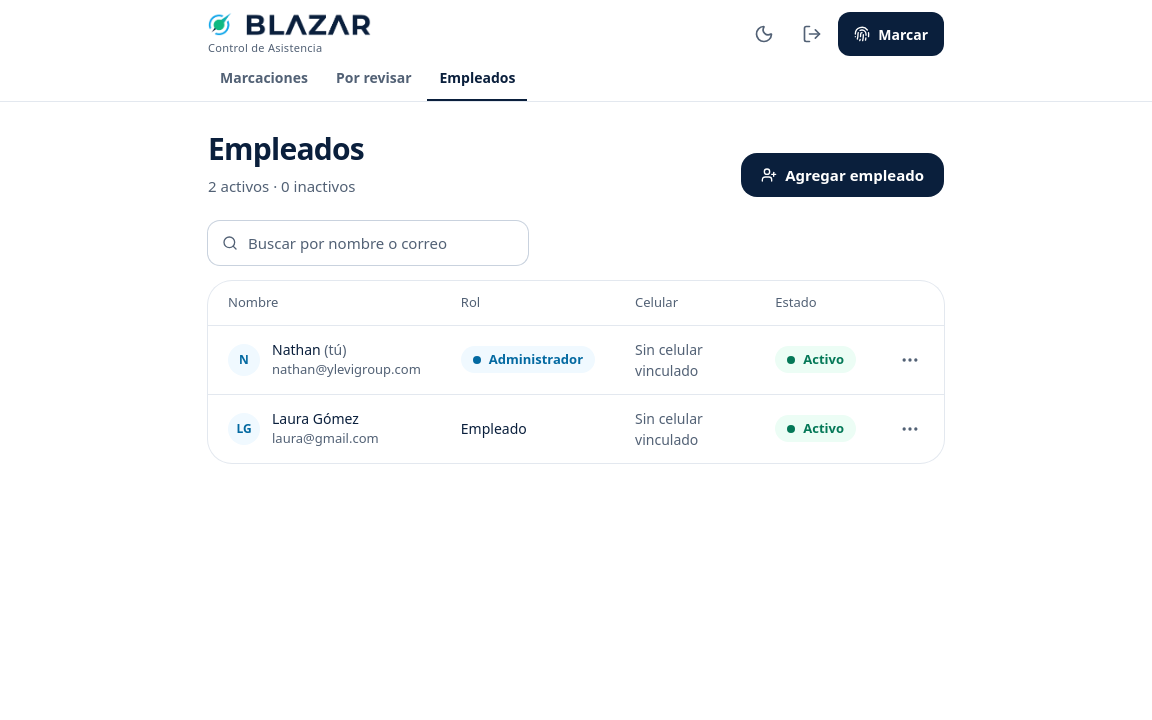
Empleados (administrador, datos reales) › desactivar pide confirmación y lo aplica en el servidor
Press Enter in the button named "Acciones para Laura Gómez", box [888,406,932,450]
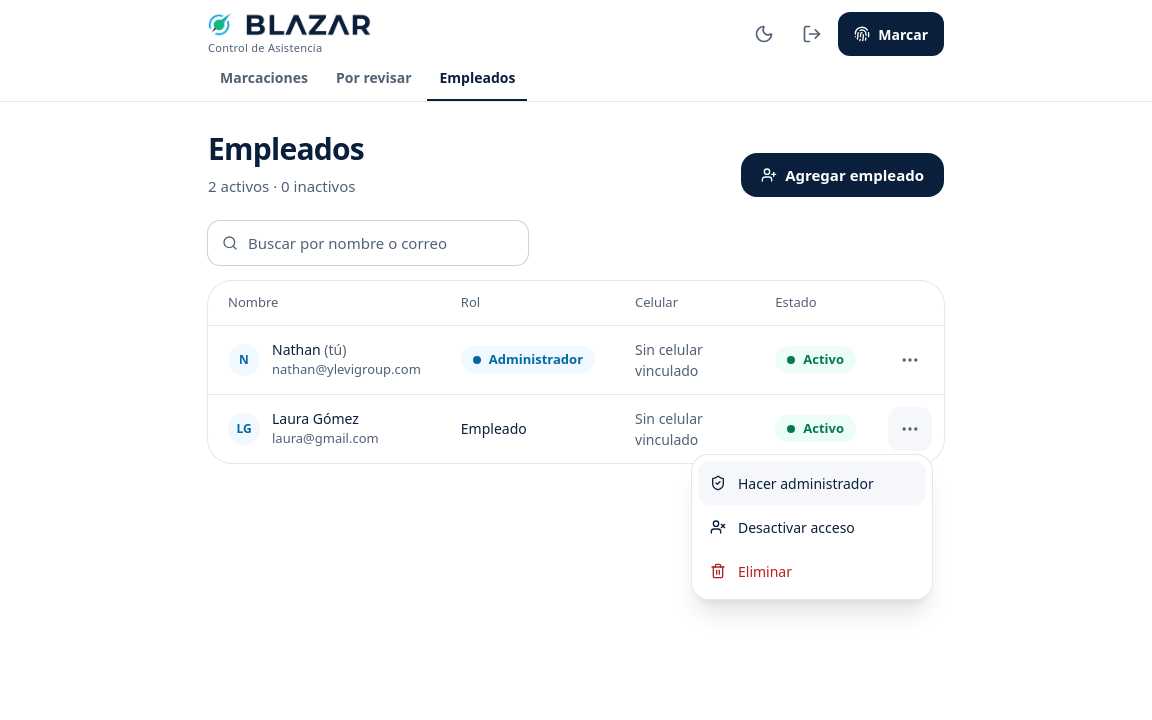
Click the menu item "Desactivar acceso" at (782, 527), box [710,518,855,536]
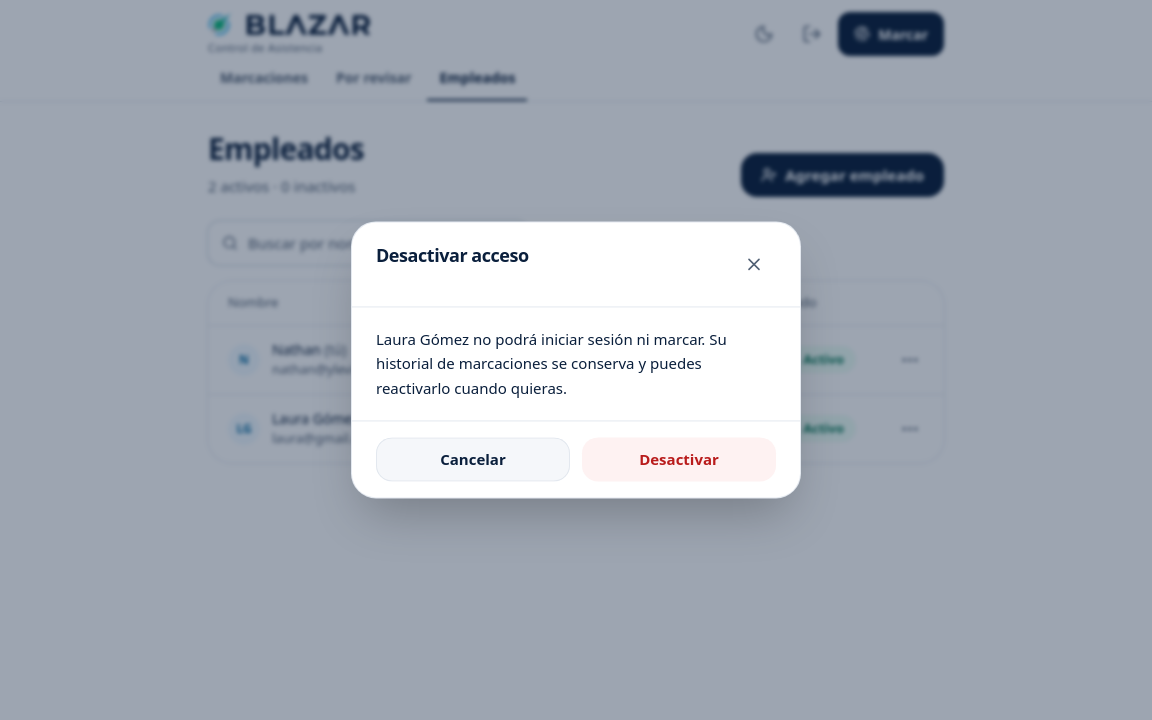
Click the button "Desactivar" at (679, 460), box [582,438,776,482]
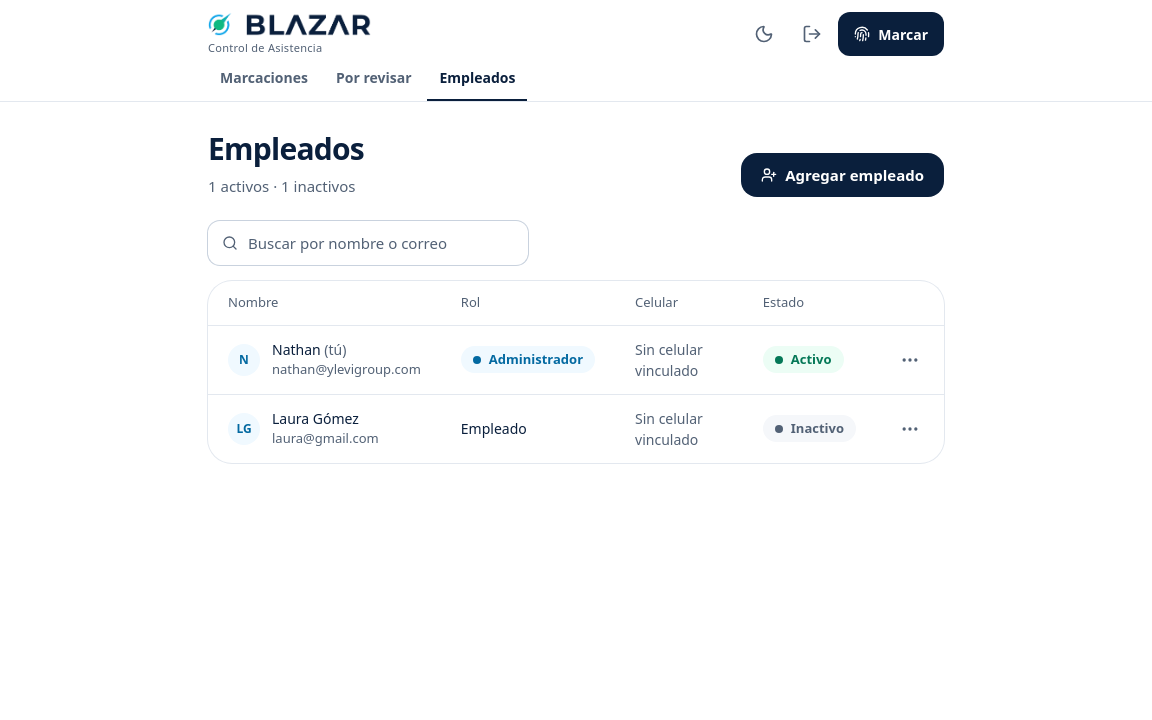
Check: the text "1 activos · 1 inactivos" is shown, box [208,174,364,197]
